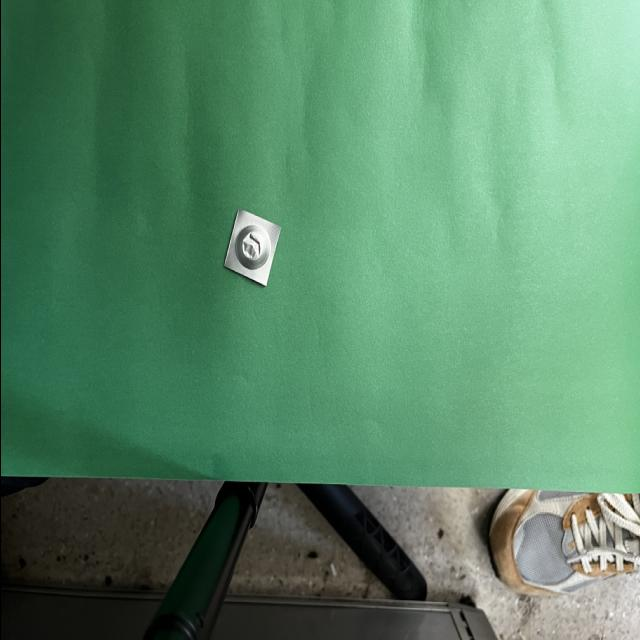Other Objects: (224, 210, 280, 287)
